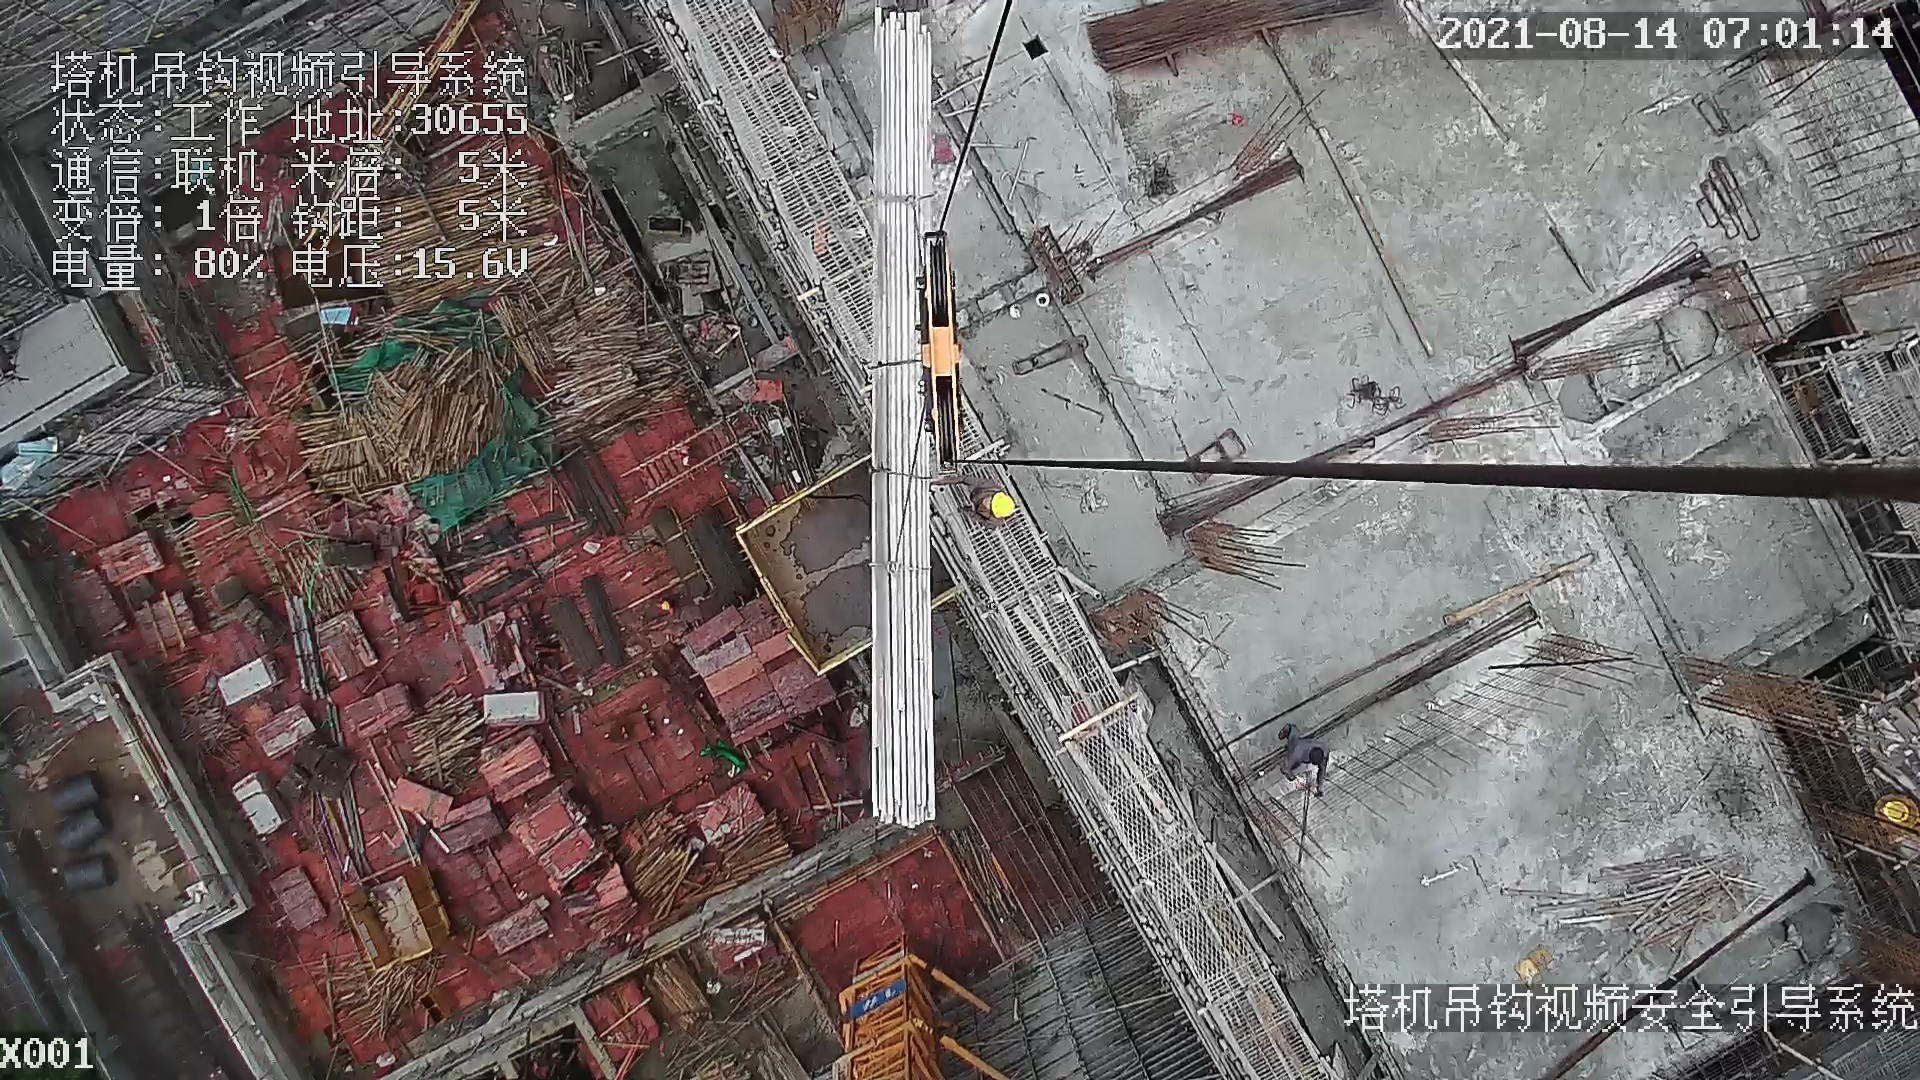helmet: (984, 486, 1017, 522)
hook: (906, 222, 974, 480)
person: (941, 465, 1012, 530), (1277, 723, 1332, 796)
